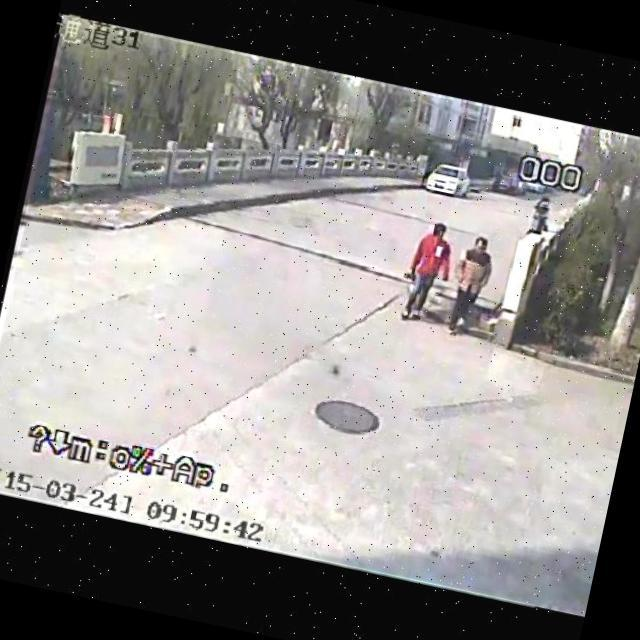person: (393, 216, 460, 332), (442, 229, 496, 344), (524, 197, 554, 237)
